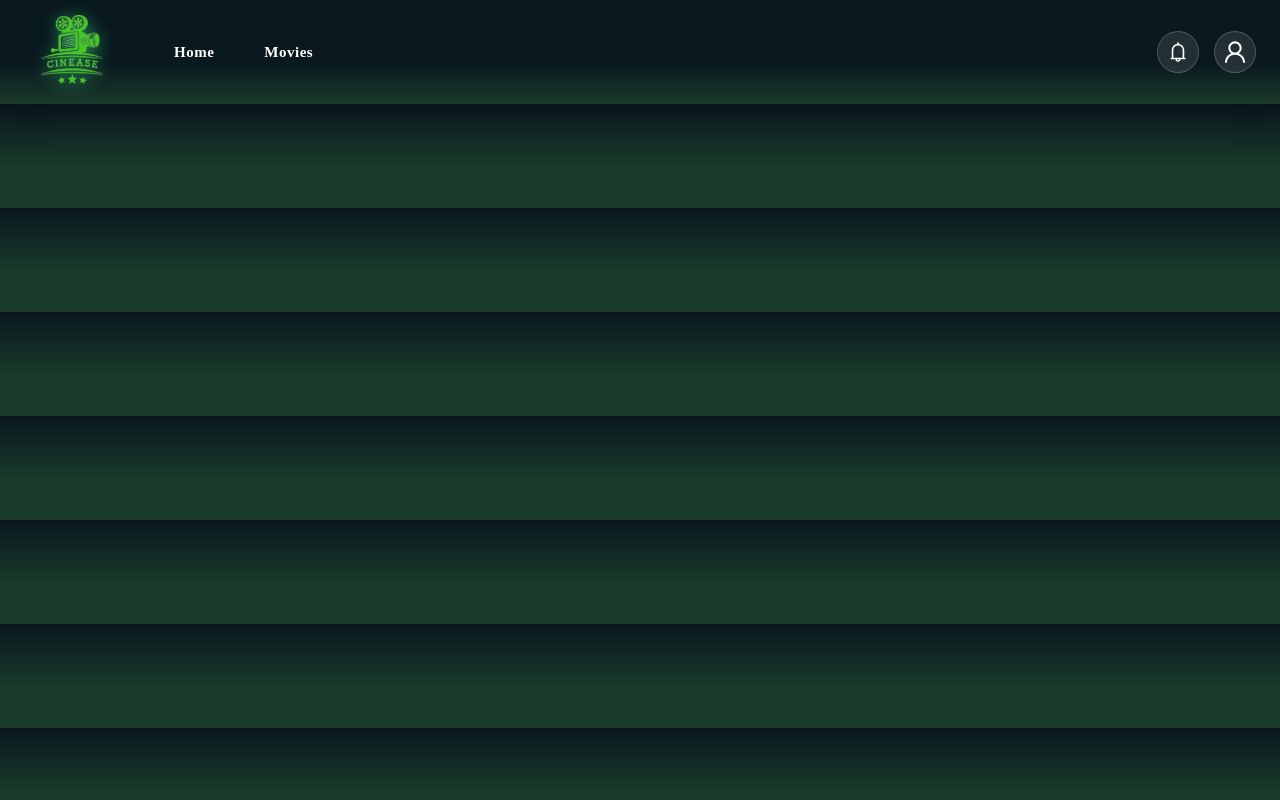
it: Admin Header › logs out and shows Sign In link
The width and height of the screenshot is (1280, 800).
Click the picture named "avatar". click: (1235, 52)
box: [1223,40,1247,64]
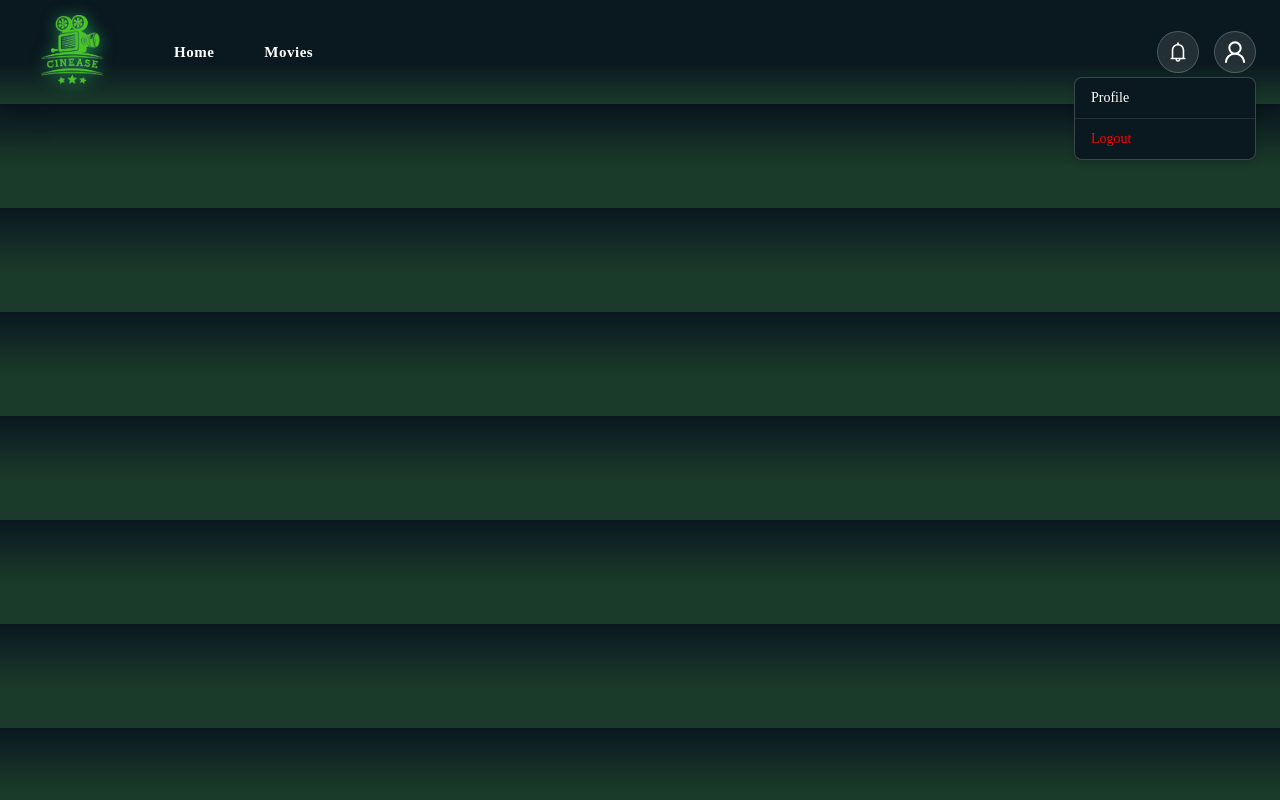
Click the text "Logout". click: (1165, 139)
box: [1075,118,1255,159]
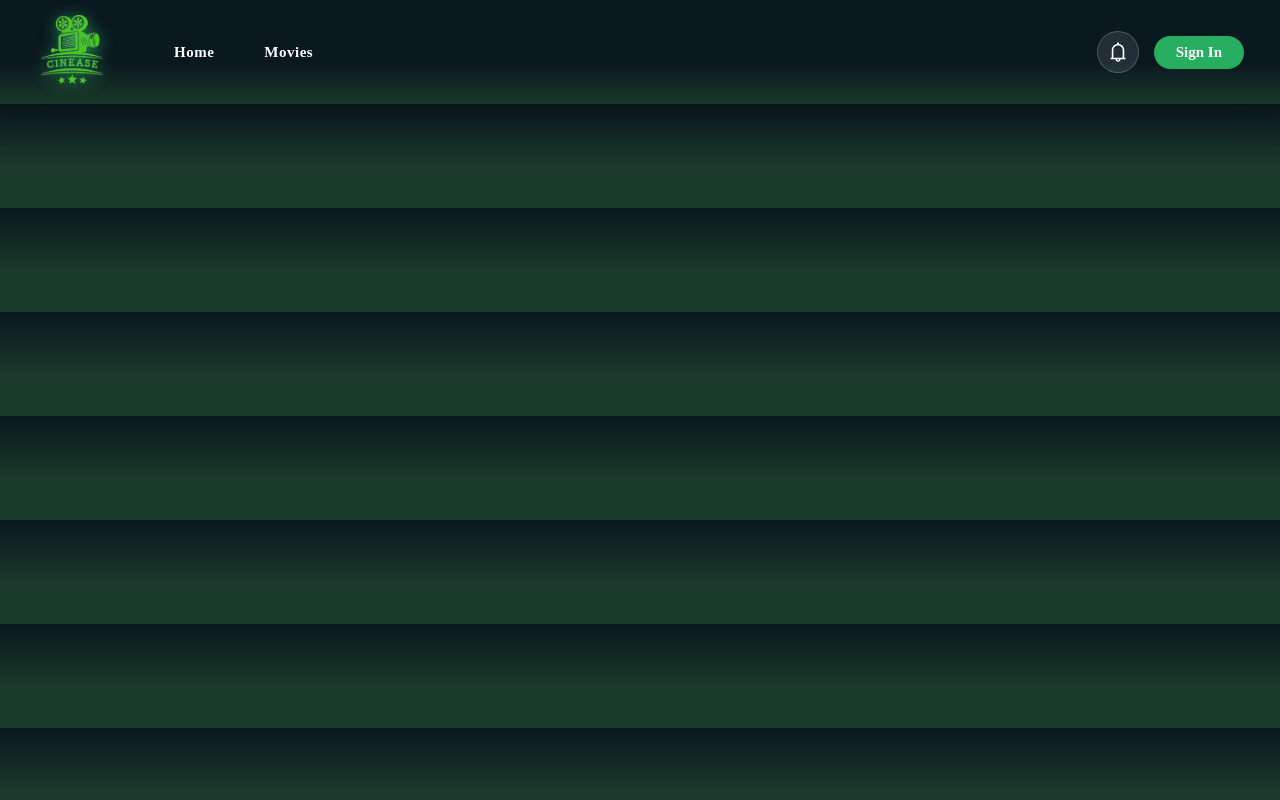
Expected: the link "Sign In" is shown, [1154,36,1244,68]
